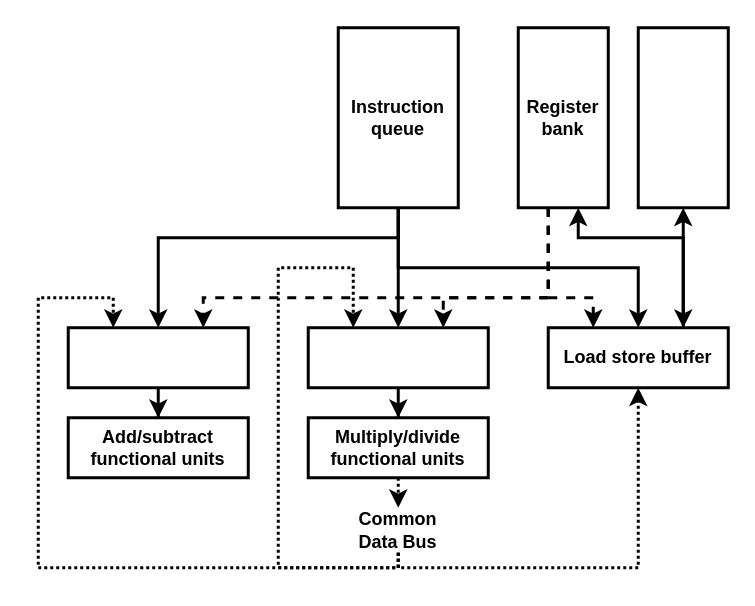
This 755x606 diagram has some shape labels left out. The shapes that lost their labels are listed below. From the top down, each one's centre as x and y in pixels, then its label:
At point 682,117: "Memory".
At point 157,357: "Add/subtract reservation stations".
At point 397,357: "Multiply/divide reservation stations".
